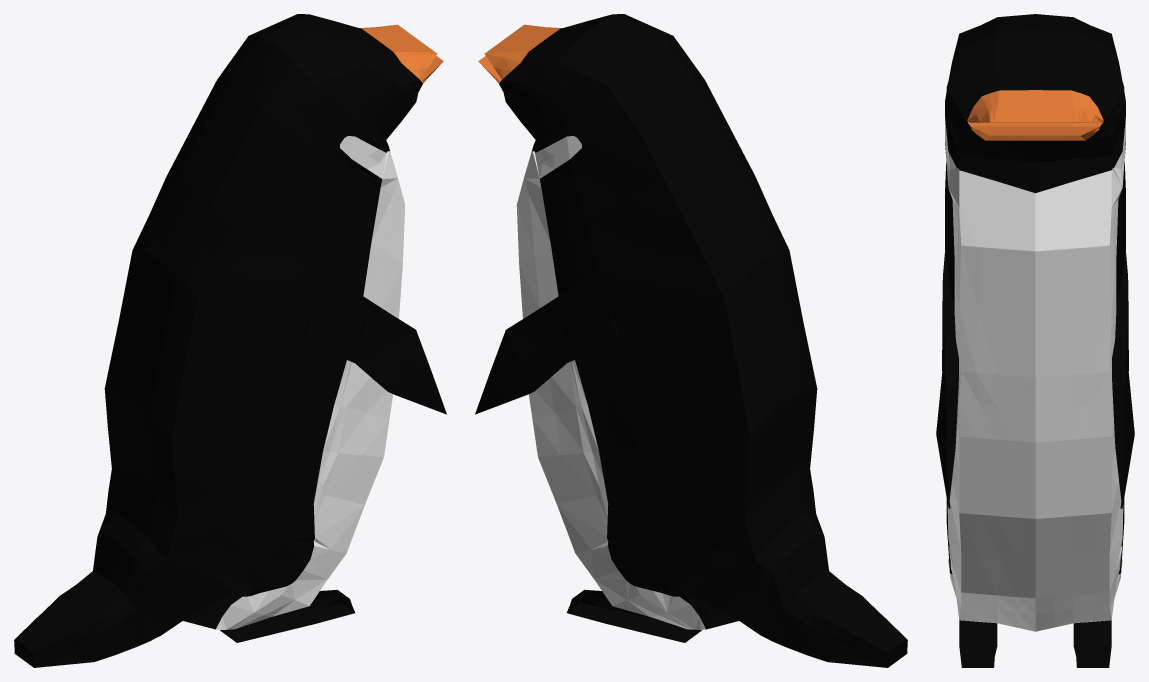
File: penguin.fbx
3 renders of one model, left to right at view 1: azimuth 30°, elevation 25°; view 2: azimuth 150°, elevation 25°; view 3: azimuth 270°, elevation 25°, orthographic. The views are drawn at different scales.
Parts seen in each view (by area): view 1: Plane; view 2: Plane; view 3: Plane.
Boxes of the visible parts, x1,y1,x2,y2 form: Plane: (14,14,446,667); Plane: (475,14,907,667); Plane: (936,14,1134,667).
Size of the model in its own units: 80.19 by 108 by 30.36.
